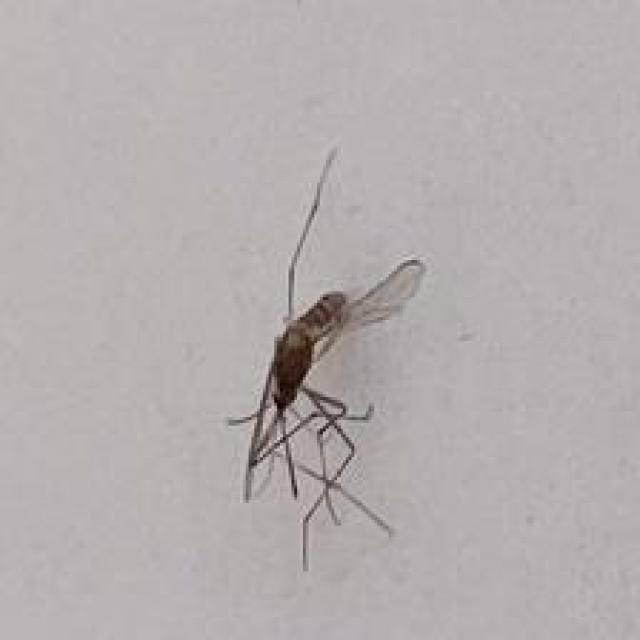Culex: (227, 143, 427, 571)
